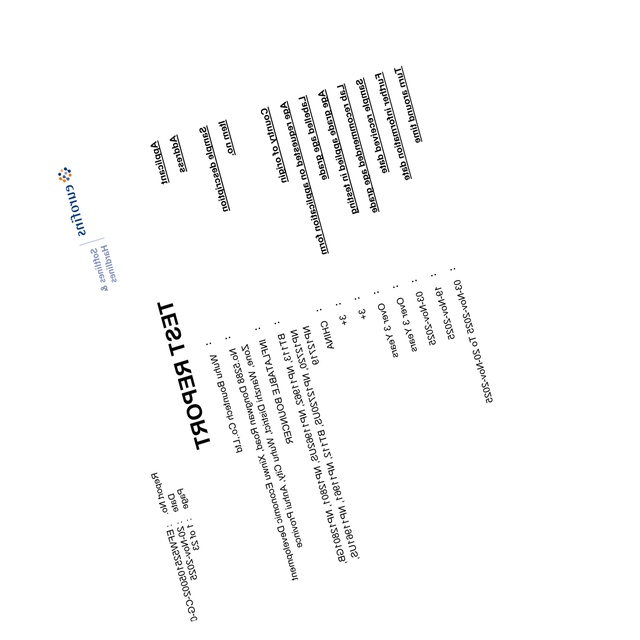eurofins: (52, 162, 89, 242)
